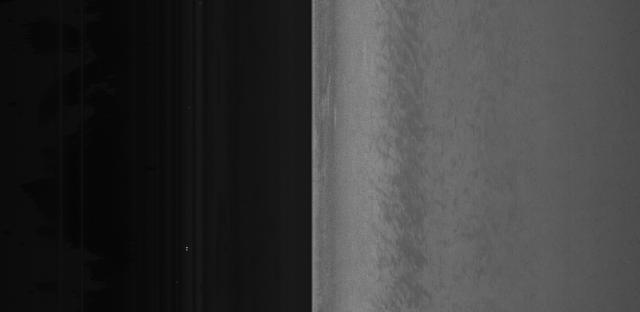silk_spot: (364, 121, 412, 190)
